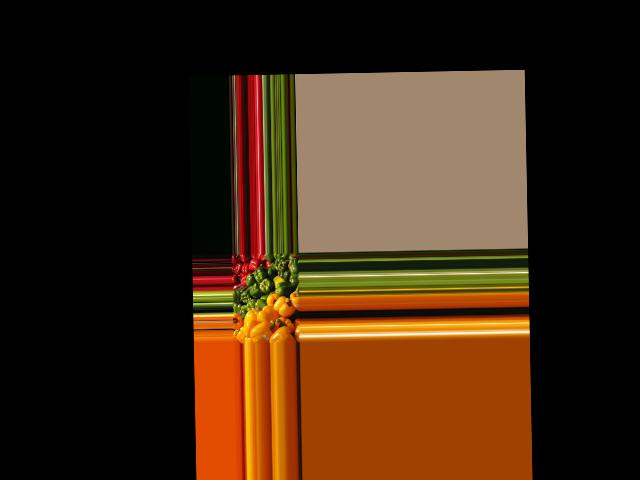bell_pepper: (287, 253, 299, 269)
